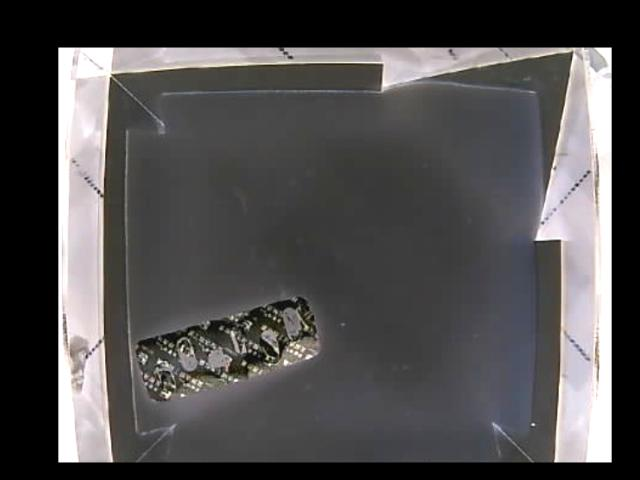Medicine: (131, 297, 320, 402)
